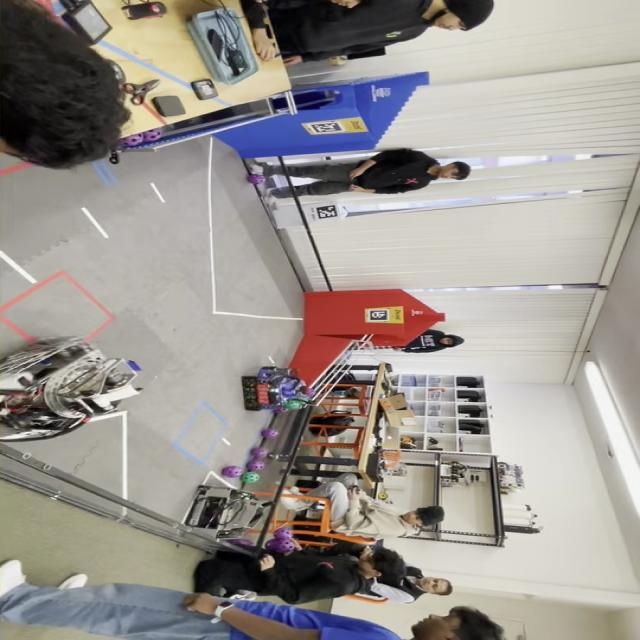artifact_purple: (266, 538, 296, 553), (120, 134, 144, 147), (222, 466, 244, 478), (143, 128, 163, 141), (279, 539, 297, 553), (273, 528, 293, 539), (247, 459, 265, 471), (251, 447, 269, 459), (241, 472, 260, 483), (247, 174, 265, 185), (261, 428, 279, 439), (228, 539, 254, 546), (306, 388, 316, 398)
